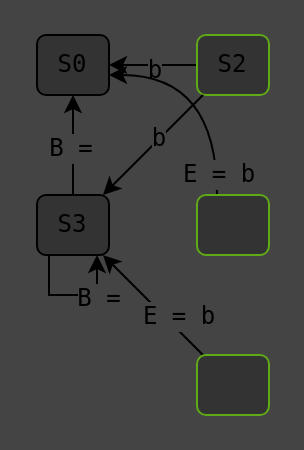
Image size: 304x450. Some labels were removed from this diagram. The centre of each missing label's shape, as x and y in pixels:
S1: point 232,224
S4: point 232,384
